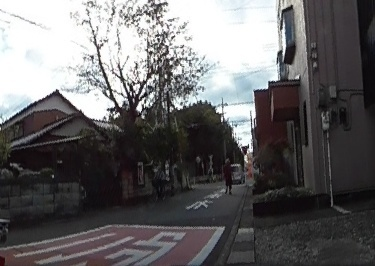person: (150, 164, 166, 194), (221, 156, 233, 193)
